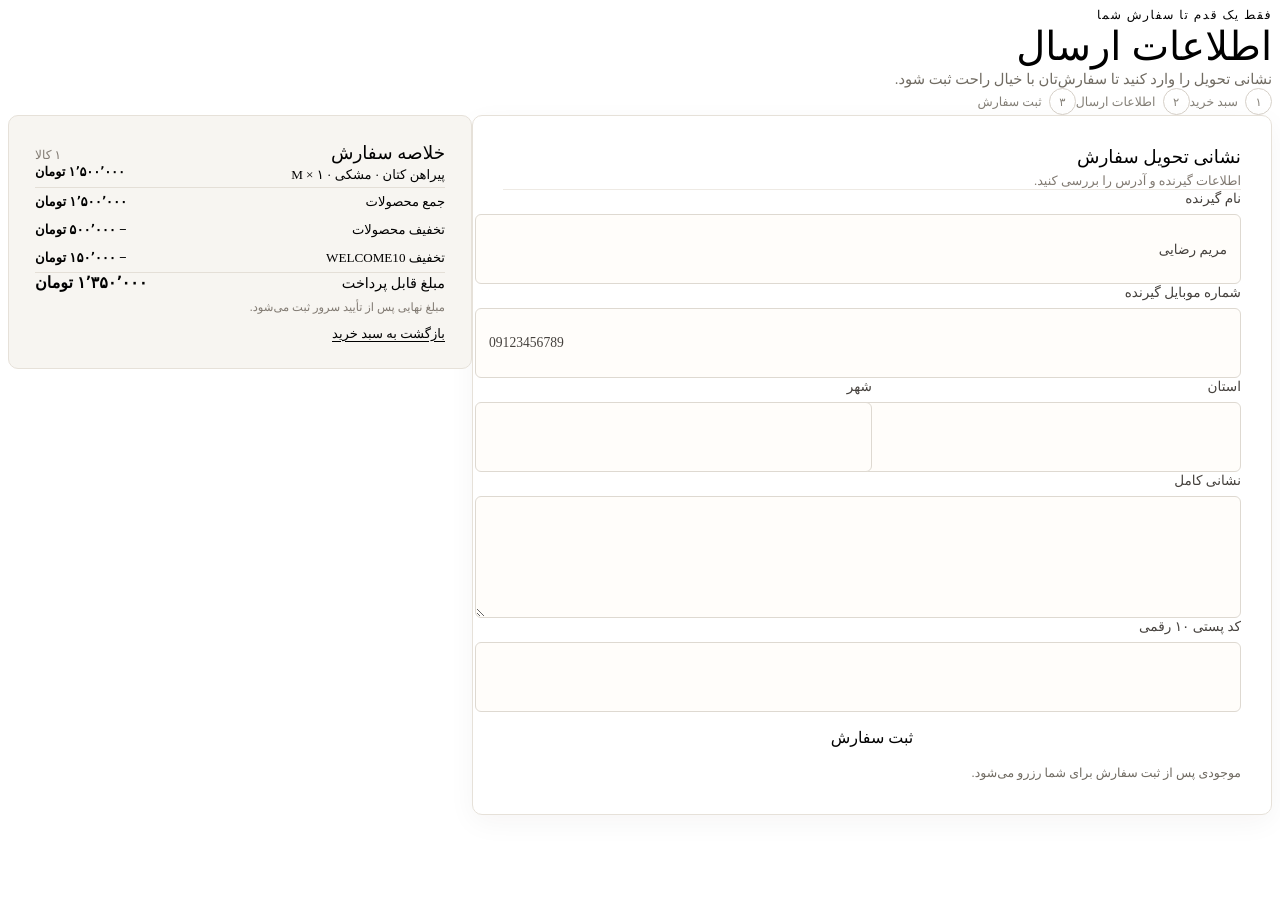
Test case: shows server validation errors and keeps the cart intact
This screenshot has width=1280, height=900.
Type "تهران" into the field labelled "استان" at (1042, 437), box [844,402,1241,472]
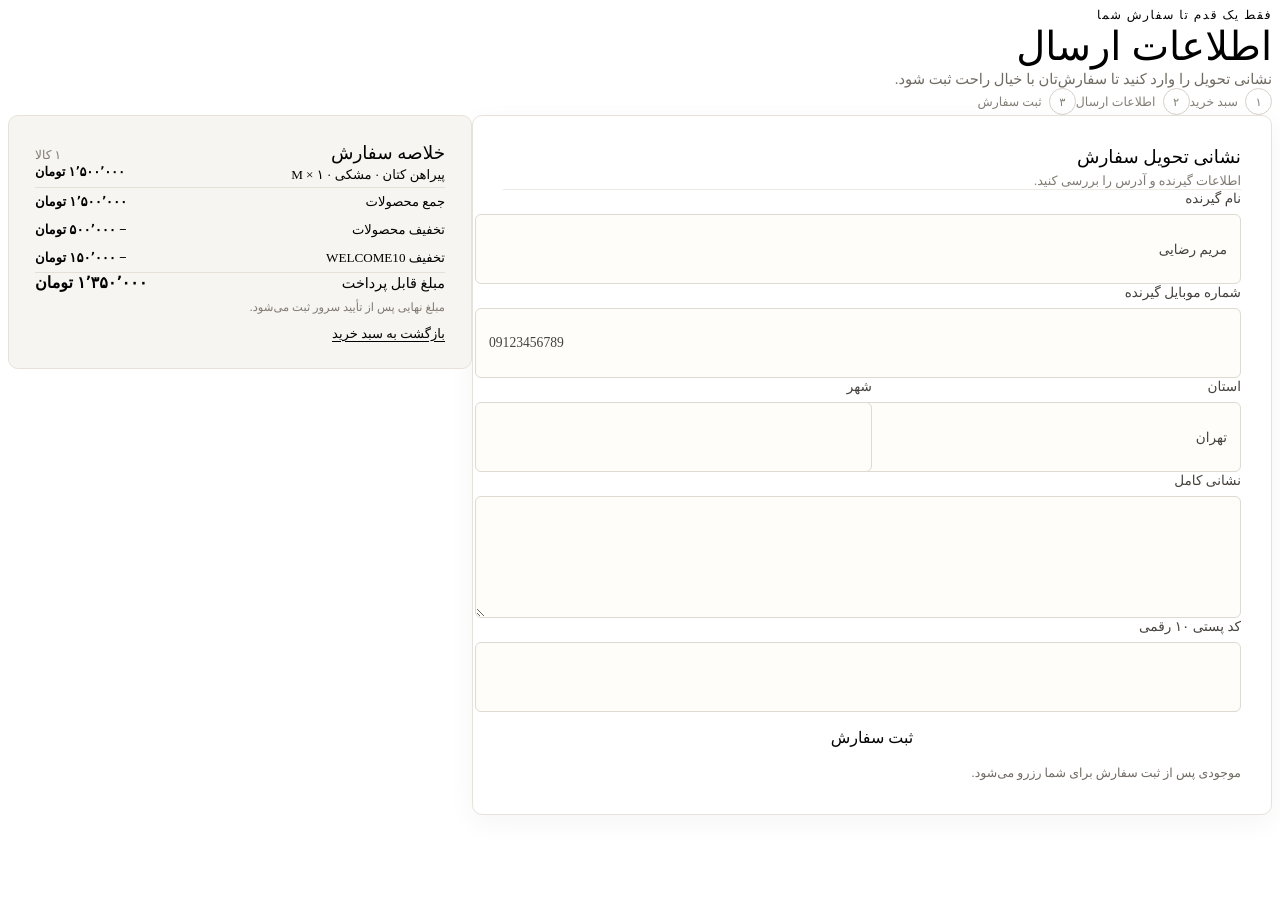
Type "تهران" into the field labelled "شهر" at (674, 437), box [475,402,872,472]
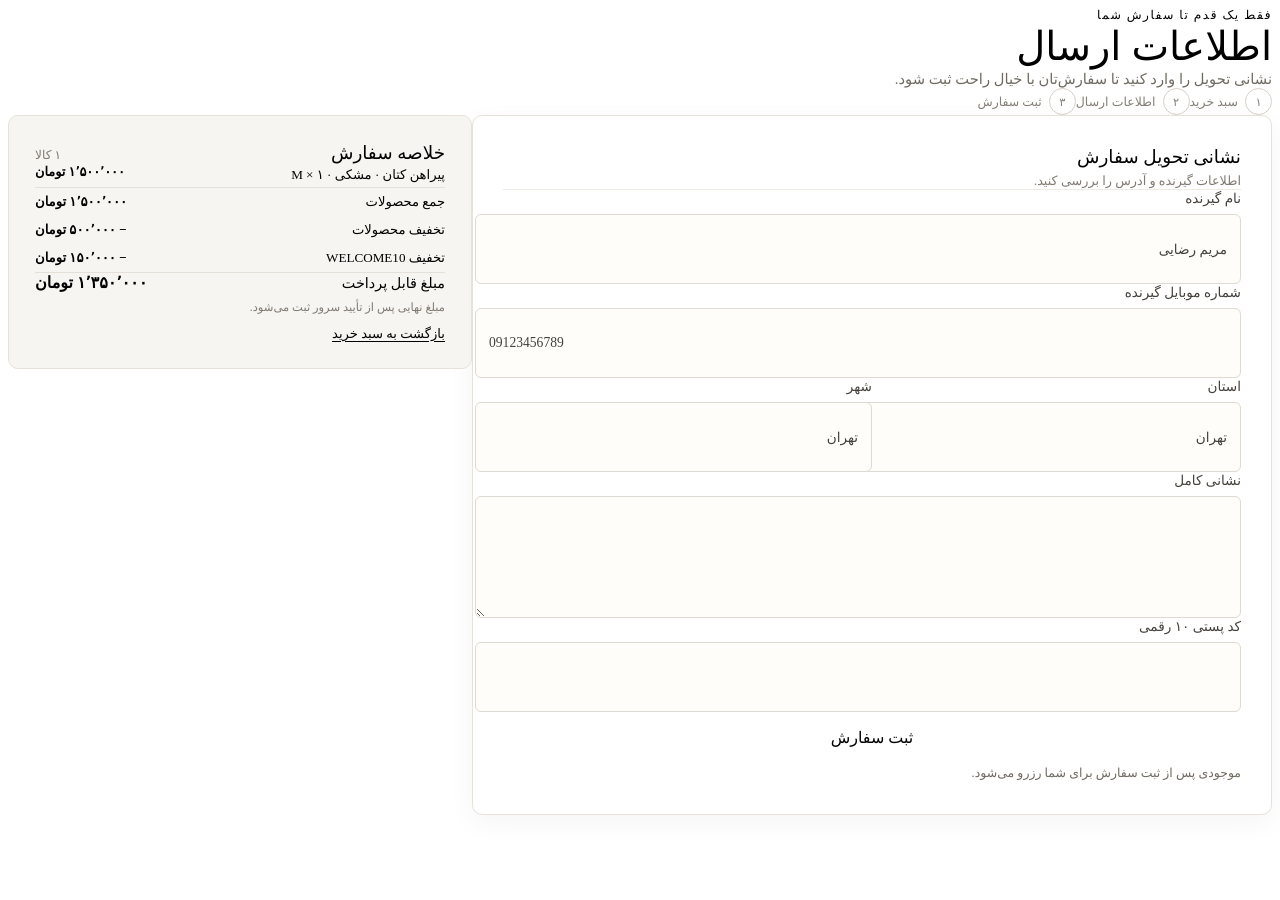
Type "خیابان ولیعصر" into the text box labelled "نشانی کامل" at (858, 557), box [475,496,1241,618]
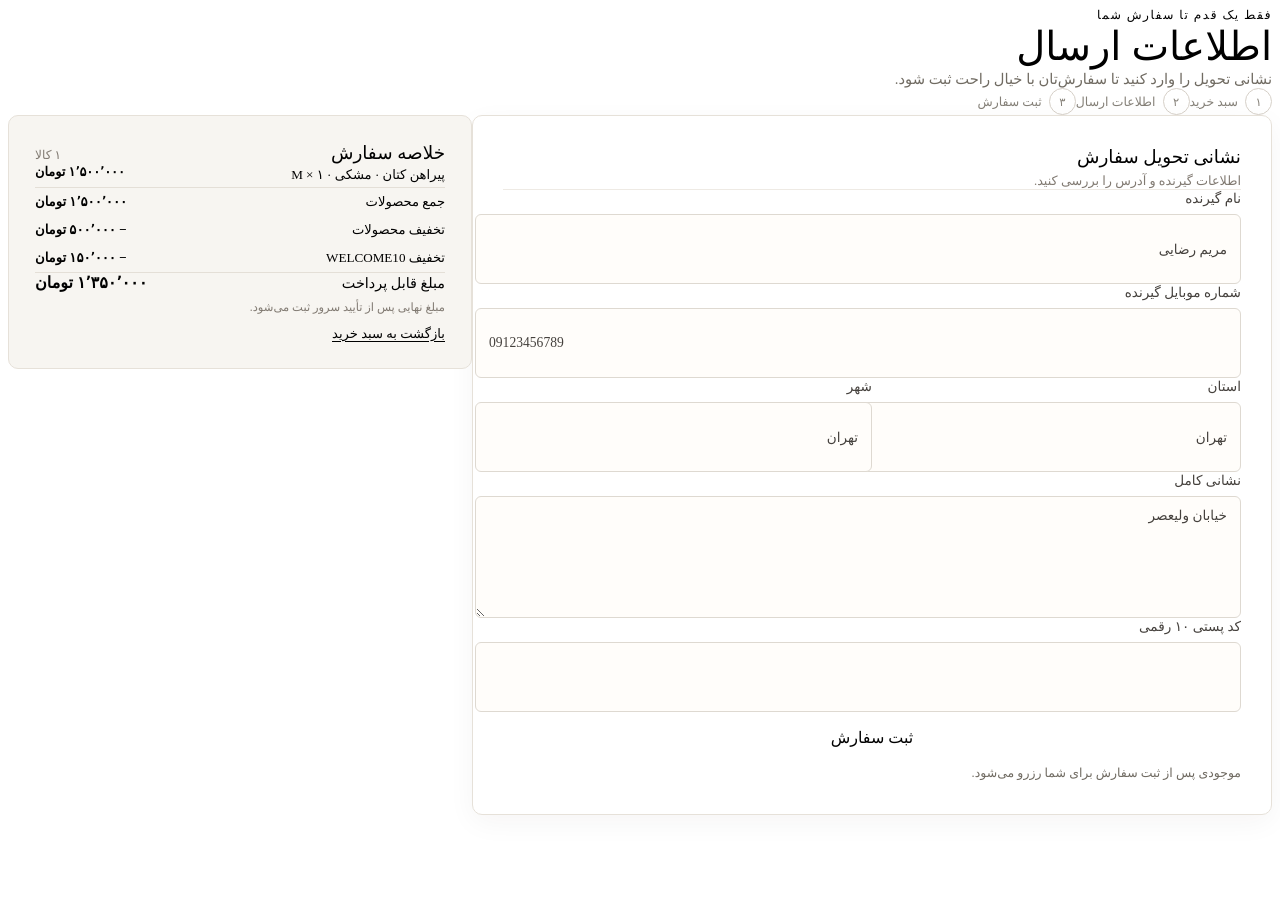
Type "1234567890" into the field labelled "کد پستی ۱۰ رقمی" at (858, 677), box [475,642,1241,712]
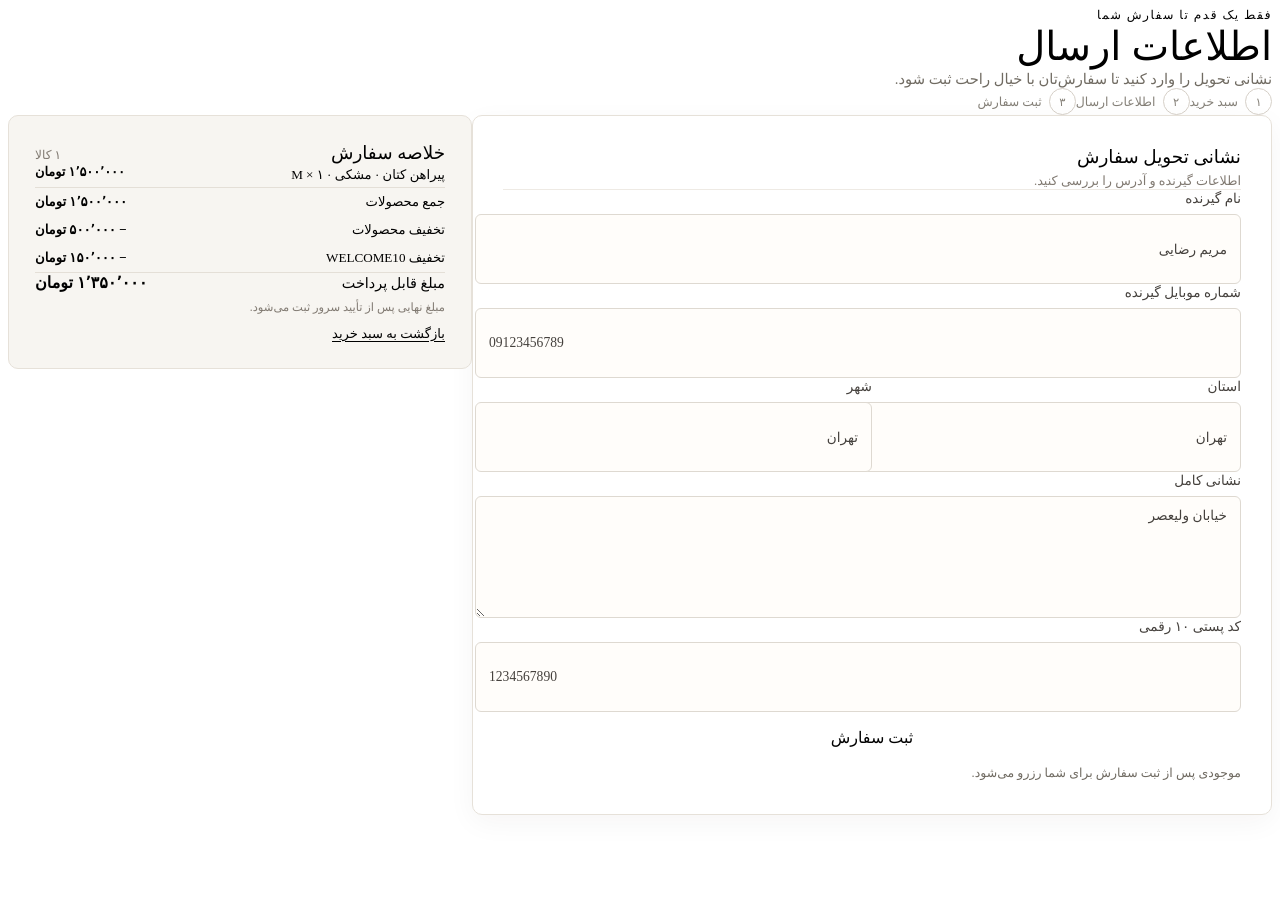
Click the button "ثبت سفارش" at (872, 737), box [503,712,1241,762]
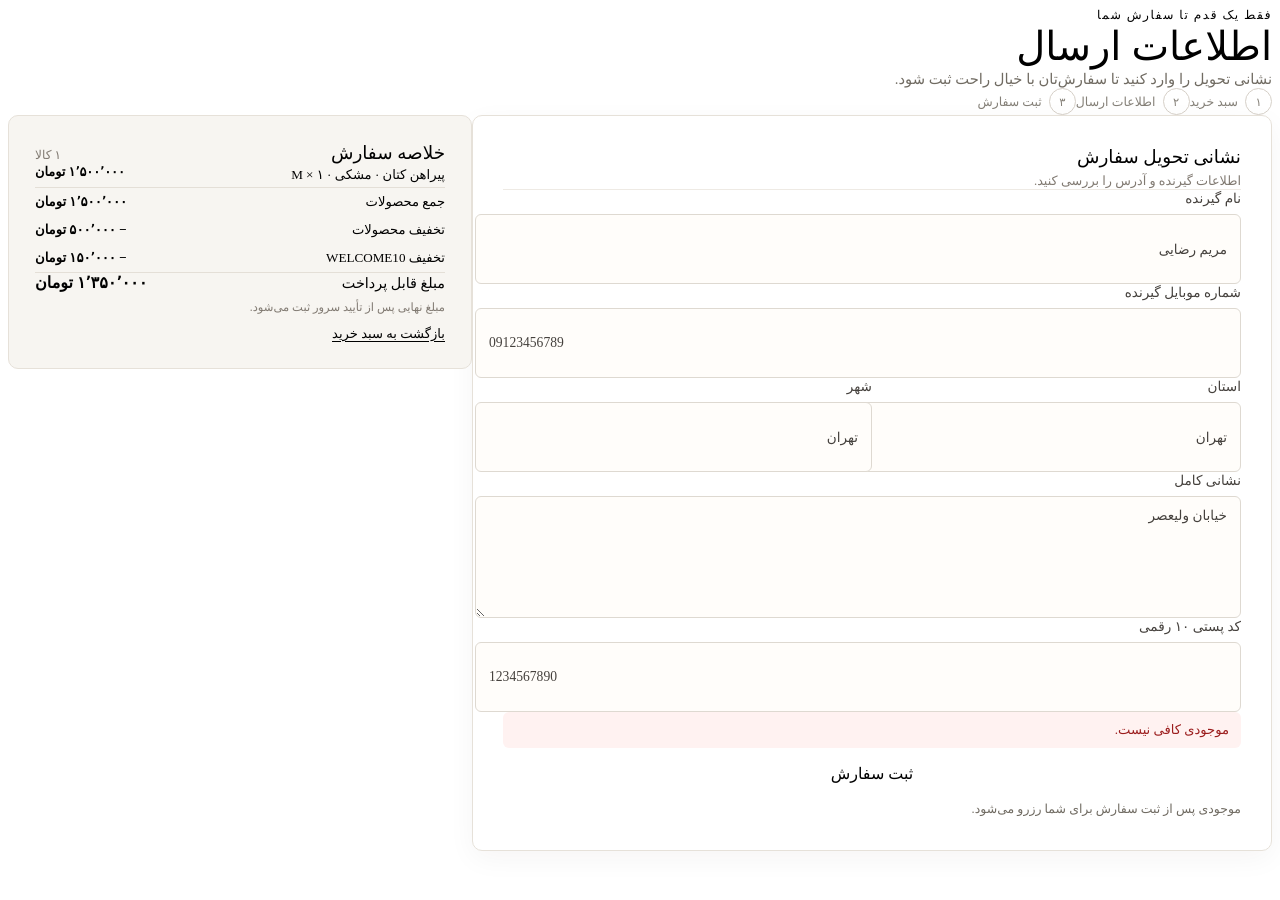
Now the message reads "موجودی کافی نیست.", box [1115,722,1229,737]
